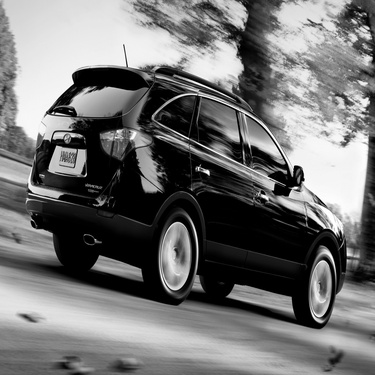car: (22, 39, 349, 329)
